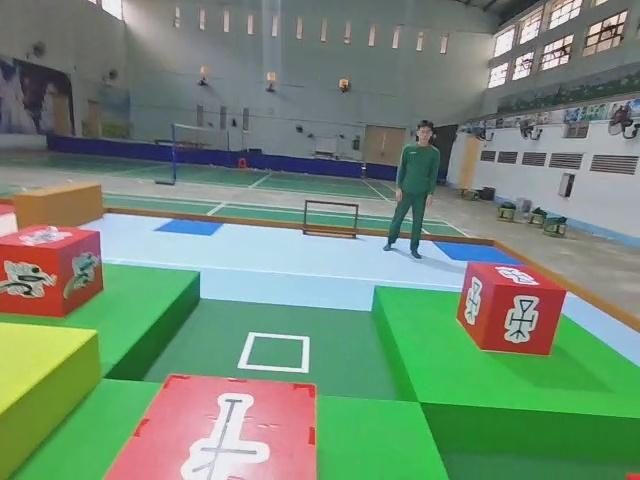R1: (0, 223, 105, 317)
R2 Real: (100, 372, 320, 480), (458, 261, 567, 357)
